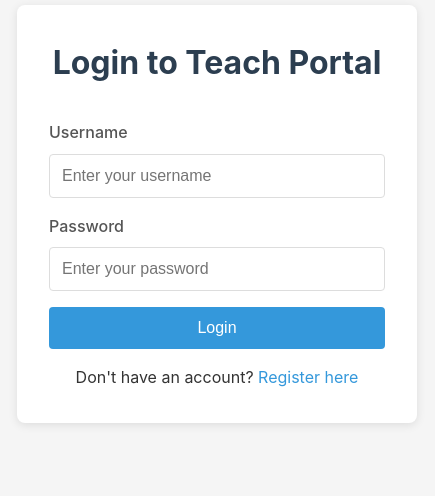
Test case: Login Component › shows validation errors for empty fields
Click the button "Login": [217, 328] box [49,307,385,349]
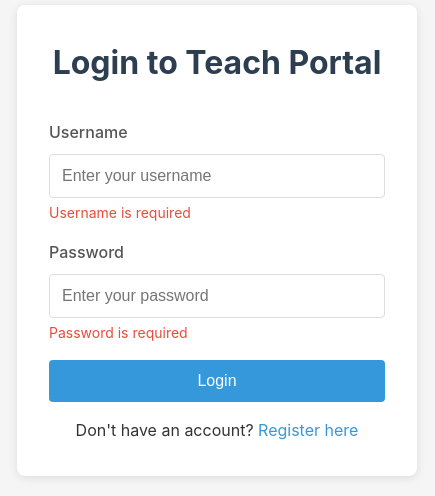
Now the text "Username is required" is shown, box [49,204,191,221]
Now the text "Password is required" is shown, box [49,324,188,341]
